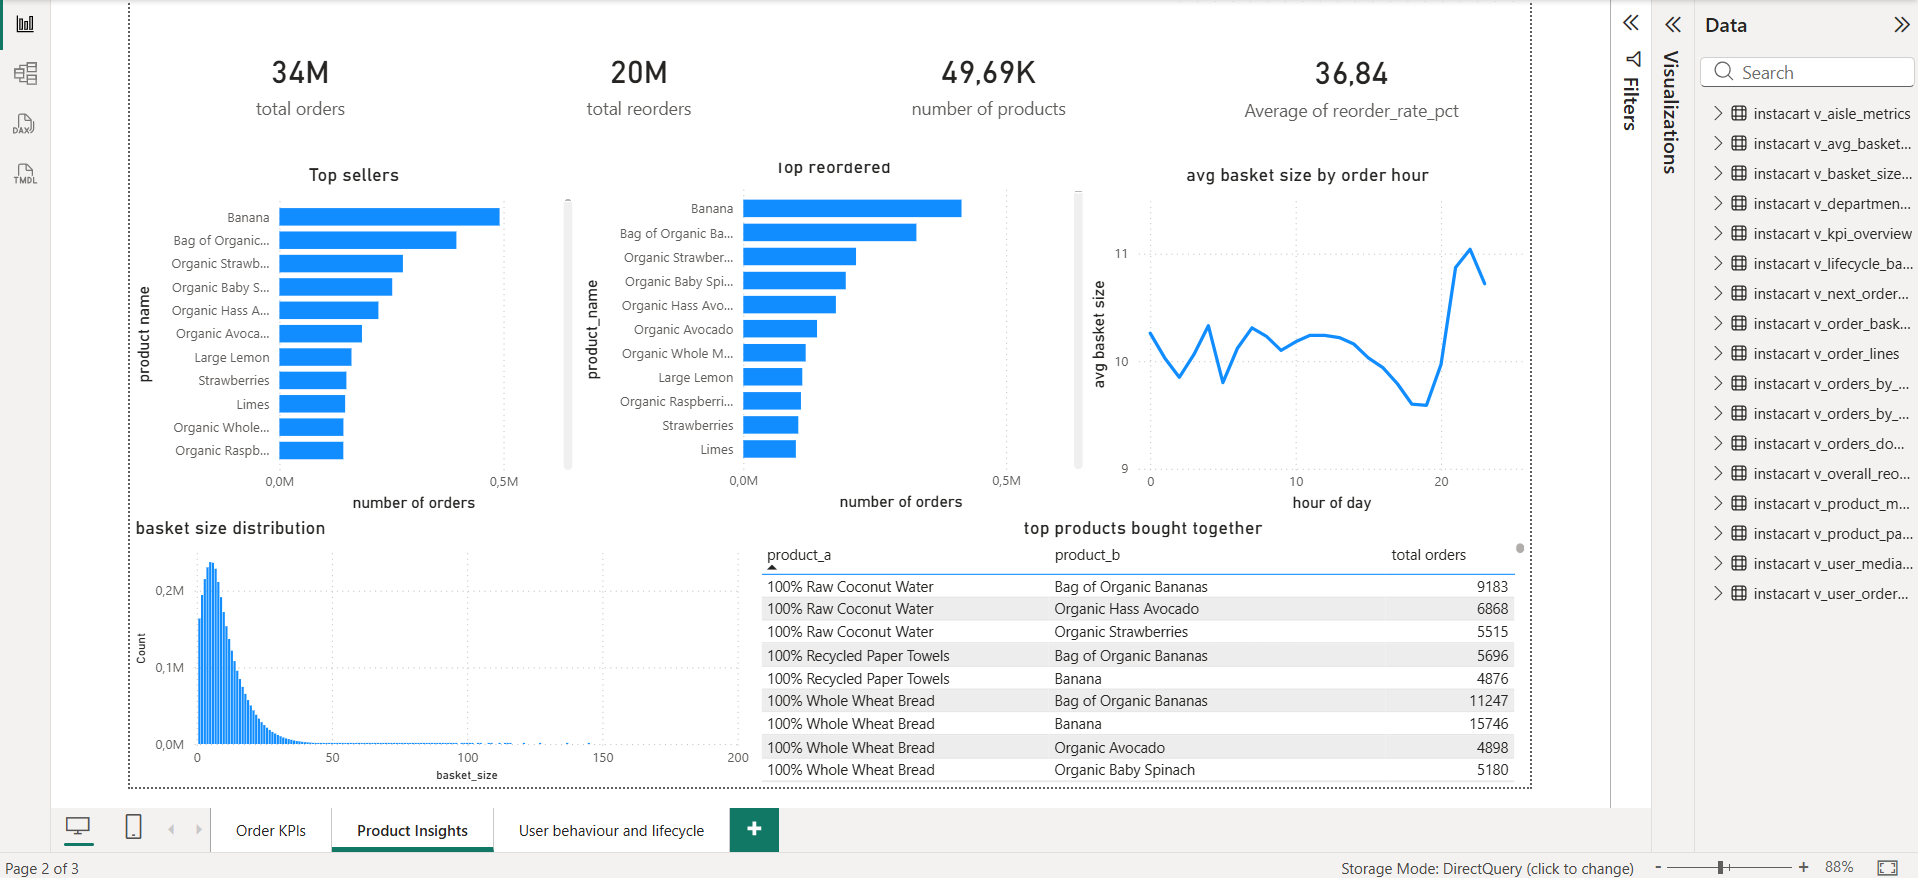

This screenshot's page, from the dashboard's own definition file:
{"tool":"powerbi","page":{"name":"Product Insights","canvas":[1280,720],"ordinal":1},"visuals":[{"type":"clusteredBarChart","title":"Top sellers","fields":{"Category":["instacart v_product_metrics.product_name"],"Y":["Sum(instacart v_product_metrics.order_count)"]},"box":[0,149.2,409.6,322.8],"z":0},{"type":"clusteredBarChart","title":"Top reordered","fields":{"Category":["instacart v_product_metrics.product_name"],"Y":["Sum(instacart v_product_metrics.reorder_count)"]},"box":[409.6,141.8,467.1,330.2],"z":1000},{"type":"tableEx","title":"top products bought together","fields":{"Values":["instacart v_product_pair_cooccurrence.product_a","instacart v_product_pair_cooccurrence.product_b","Sum(instacart v_product_pair_cooccurrence.order_count)"]},"box":[571.1,472,709.2,248.2],"z":2000},{"type":"lineChart","title":"avg basket size by order hour","fields":{"Y":["Sum(instacart v_basket_size_by_hour.avg_basket_size)"],"Category":["instacart v_basket_size_by_hour.order_hour_of_day"]},"box":[873.1,149.2,407.2,322.8],"z":3000},{"type":"clusteredColumnChart","title":"basket size distribution","fields":{"Category":["instacart v_order_basket_sizes.basket_size"],"Y":["CountNonNull(instacart v_order_basket_sizes.basket_size)"]},"box":[0,472,571.1,248.2],"z":4000},{"type":"card","fields":{"Values":["Sum(instacart v_product_metrics.order_count)"]},"box":[0,0,311.8,149.2],"z":5000},{"type":"card","fields":{"Values":["Sum(instacart v_product_metrics.reorder_count)"]},"box":[311.8,0,306.9,149.2],"z":6000},{"type":"card","fields":{"Values":["Count(instacart v_product_metrics.product_id)"]},"box":[618.8,0,333.8,149.2],"z":7000},{"type":"card","fields":{"Values":["Avg(instacart v_product_metrics.reorder_rate_pct)"]},"box":[952.6,3.7,327.7,145.5],"z":8000}]}

Visuals, with their boxes on the page's 1280x720 design canvas (x1, y1, x2, y2). These are canvas units, not pixel positions in the 1918x878 screenshot, which may show the page scaled, cropped or inside an application window:
"Top sellers" clusteredBarChart: select_region(0, 149, 410, 472)
"Top reordered" clusteredBarChart: select_region(410, 142, 877, 472)
"top products bought together" tableEx: select_region(571, 472, 1280, 720)
"avg basket size by order hour" lineChart: select_region(873, 149, 1280, 472)
"basket size distribution" clusteredColumnChart: select_region(0, 472, 571, 720)
card - Sum(instacart v_product_metrics.order_count): select_region(0, 0, 312, 149)
card - Sum(instacart v_product_metrics.reorder_count): select_region(312, 0, 619, 149)
card - Count(instacart v_product_metrics.product_id): select_region(619, 0, 953, 149)
card - Avg(instacart v_product_metrics.reorder_rate_pct): select_region(953, 4, 1280, 149)
